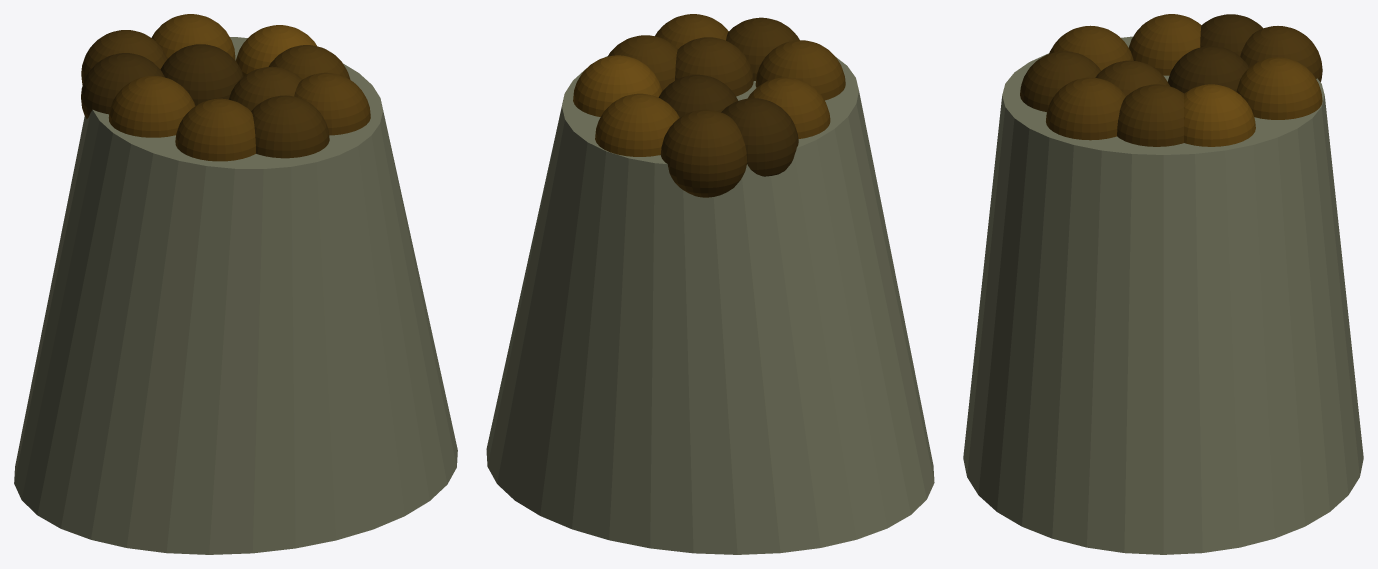
File: Sementes.fbx
3 renders of one model, left to right at view 1: azimuth 30°, elevation 25°; view 2: azimuth 150°, elevation 25°; view 3: azimuth 270°, elevation 25°, orthographic.
Parts seen in each view (by area): view 1: Cilindro.001, Esfera UV.008, Esfera UV.004, Esfera UV.012, Esfera UV.003, Esfera UV.009, Esfera UV.013, Esfera UV.006, Esfera UV.010, Esfera UV.007, Esfera UV.005, Esfera UV.011; view 2: Cilindro.001, Esfera UV.007, Esfera UV.006, Esfera UV.013, Esfera UV.010, Esfera UV.008, Esfera UV.005, Esfera UV.004, Esfera UV.003, Esfera UV.012, Esfera UV.011, Esfera UV.009; view 3: Cilindro.001, Esfera UV.006, Esfera UV.009, Esfera UV.010, Esfera UV.011, Esfera UV.004, Esfera UV.012, Esfera UV.003, Esfera UV.007, Esfera UV.008, Esfera UV.013, Esfera UV.005.
Boxes of the visible parts, <box> form: Cilindro.001: <box>14,37,457,554</box>; Esfera UV.008: <box>175,98,255,161</box>; Esfera UV.004: <box>108,75,195,137</box>; Esfera UV.012: <box>251,95,329,158</box>; Esfera UV.003: <box>160,44,243,105</box>; Esfera UV.009: <box>294,72,370,135</box>; Esfera UV.013: <box>81,53,164,118</box>; Esfera UV.006: <box>151,14,235,59</box>; Esfera UV.010: <box>235,25,316,75</box>; Esfera UV.007: <box>81,30,167,85</box>; Esfera UV.005: <box>229,66,302,110</box>; Esfera UV.011: <box>268,45,350,79</box>; Cilindro.001: <box>486,56,934,554</box>; Esfera UV.007: <box>660,109,747,197</box>; Esfera UV.006: <box>595,93,679,156</box>; Esfera UV.013: <box>721,98,798,176</box>; Esfera UV.010: <box>573,55,662,116</box>; Esfera UV.008: <box>755,40,845,100</box>; Esfera UV.005: <box>675,37,753,96</box>; Esfera UV.004: <box>747,77,830,139</box>; Esfera UV.003: <box>658,74,737,117</box>; Esfera UV.012: <box>726,17,799,80</box>; Esfera UV.011: <box>607,35,677,90</box>; Esfera UV.009: <box>655,14,728,48</box>; Cilindro.001: <box>963,36,1363,554</box>; Esfera UV.006: <box>1236,57,1322,119</box>; Esfera UV.009: <box>1046,77,1125,140</box>; Esfera UV.010: <box>1184,84,1255,146</box>; Esfera UV.011: <box>1117,84,1183,146</box>; Esfera UV.004: <box>1129,14,1201,75</box>; Esfera UV.012: <box>1020,51,1100,112</box>; Esfera UV.003: <box>1168,46,1249,93</box>; Esfera UV.007: <box>1240,26,1322,81</box>; Esfera UV.008: <box>1049,25,1133,70</box>; Esfera UV.013: <box>1200,14,1262,56</box>; Esfera UV.005: <box>1095,60,1169,96</box>.
Bounding box in the file's own units: 106 × 104 × 92.88.
